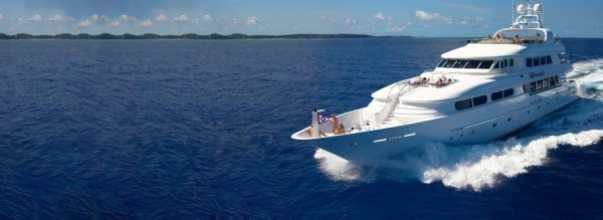yacht: (291, 1, 579, 162)
